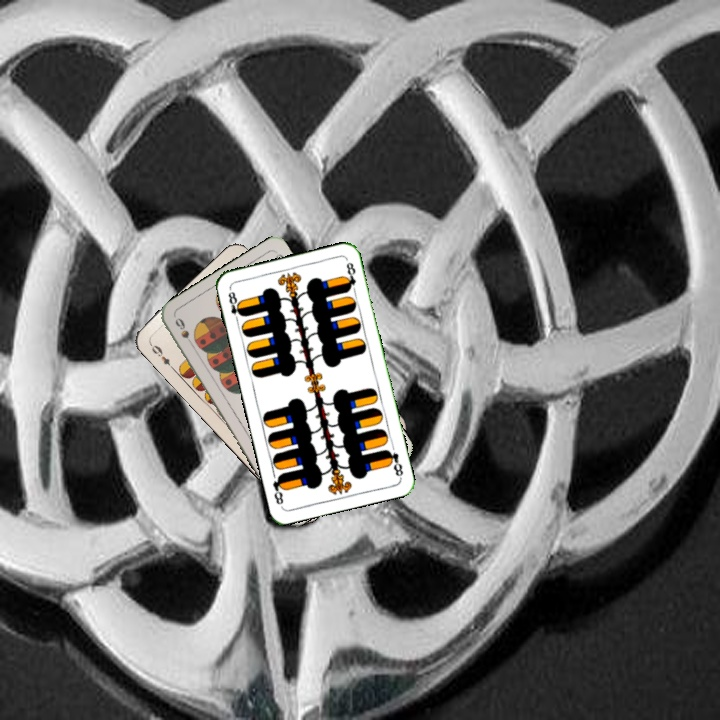E8: (224, 285, 246, 325), (382, 445, 406, 480)
E9: (145, 338, 177, 372)
S9: (171, 313, 197, 351)
